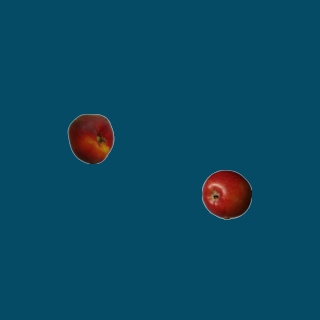Apple Braeburn: (201, 169, 251, 219)
Nectarine Flat: (65, 113, 115, 163)
